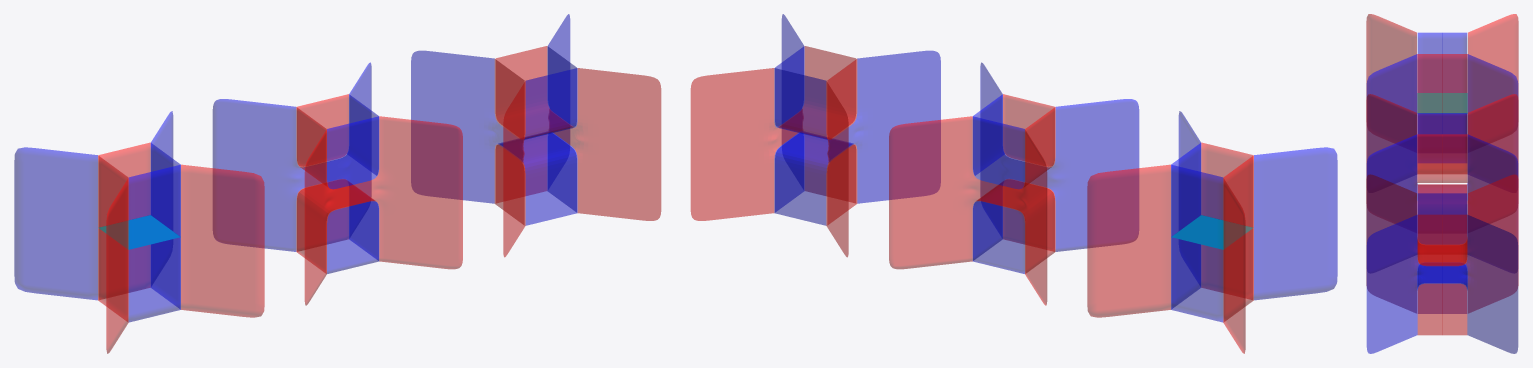
File: 4compression.glb
3 renders of one model, left to right at view 1: azimuth 30°, elevation 25°; view 2: azimuth 150°, elevation 25°; view 3: azimuth 270°, elevation 25°, orthographic. The views are drawn at different scales.
Visible parts, largest first — view 1: surface, surface.002, surface.001, compdisk; view 2: surface, surface.002, surface.001, compdisk; view 3: surface.002, surface, surface.001, compdisk.
Part boxes in pixels (<box>): surface: <box>14,111,264,353</box>; surface.002: <box>411,14,661,257</box>; surface.001: <box>212,62,462,305</box>; compdisk: <box>99,215,180,249</box>; surface: <box>1087,111,1337,353</box>; surface.002: <box>690,14,940,257</box>; surface.001: <box>889,62,1139,305</box>; compdisk: <box>1171,215,1252,249</box>; surface.002: <box>1366,174,1518,353</box>; surface: <box>1366,14,1518,173</box>; surface.001: <box>1366,94,1518,241</box>; compdisk: <box>1417,93,1467,113</box>.
Bounding box in the file's own units: 14.01 × 3.5 × 4.01.
